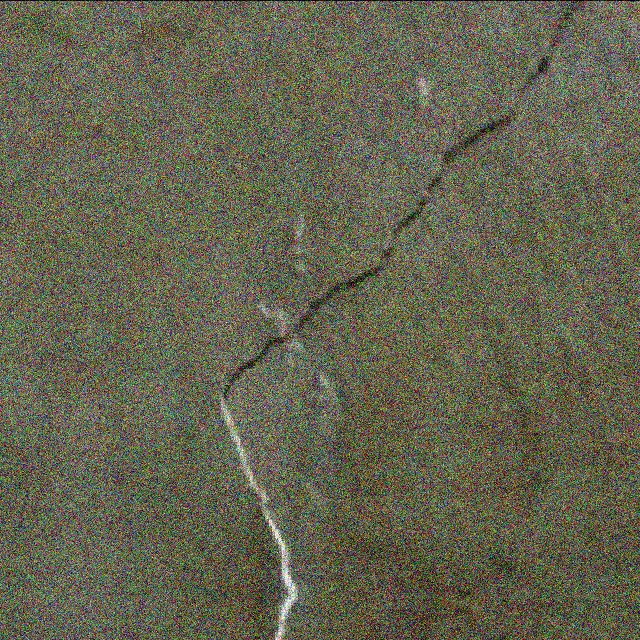SurfaceCrack: (220, 0, 574, 640)
